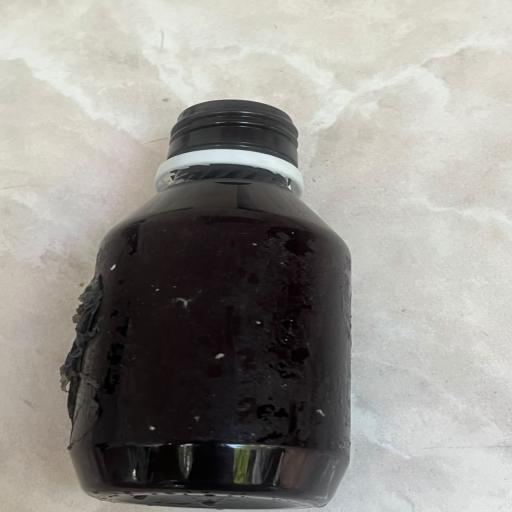HDPE: (38, 43, 450, 512)
